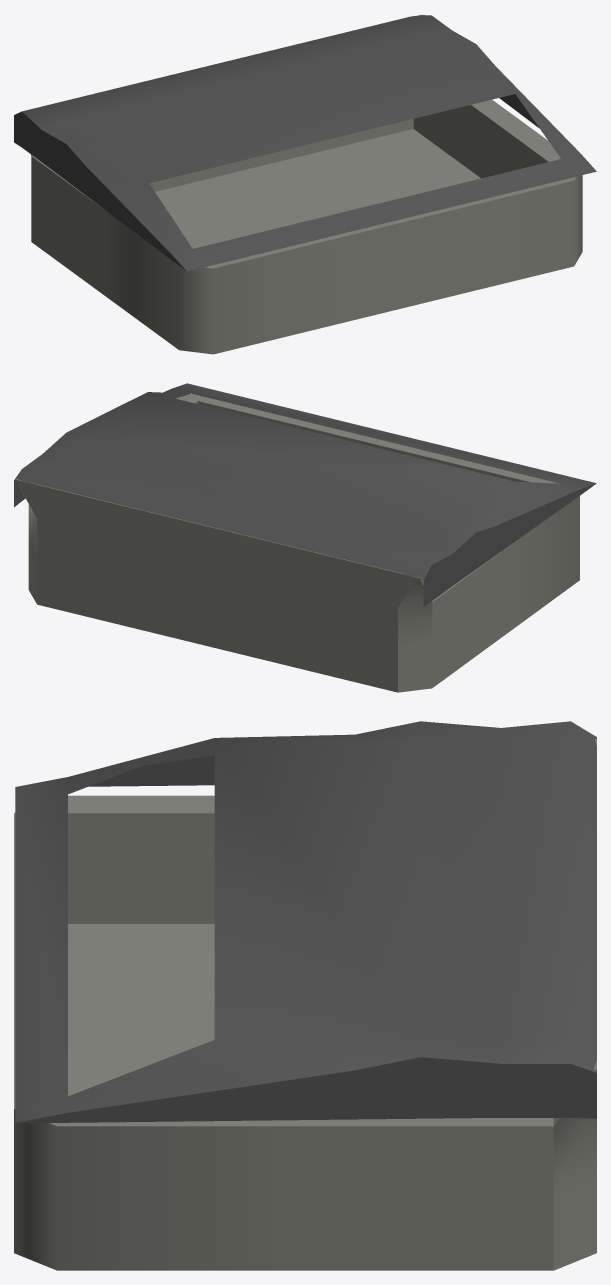
File: container_02.fbx
The picture shows the model from 3 angles, top to bottom: view 1: azimuth 30°, elevation 25°; view 2: azimuth 150°, elevation 25°; view 3: azimuth 270°, elevation 25°; orthographic projection. The views are drawn at different scales.
Visible parts, largest first — view 1: container_02; view 2: container_02; view 3: container_02.
Part boxes in pixels (<box>): container_02: <box>14,14,596,354</box>; container_02: <box>14,383,596,692</box>; container_02: <box>14,721,596,1270</box>.
Size of the model in its own units: 221 by 66.35 by 162.
